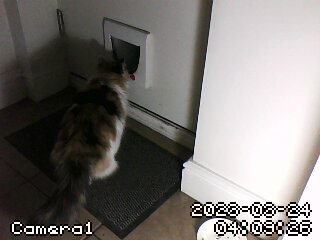clara: (61, 44, 134, 222)
